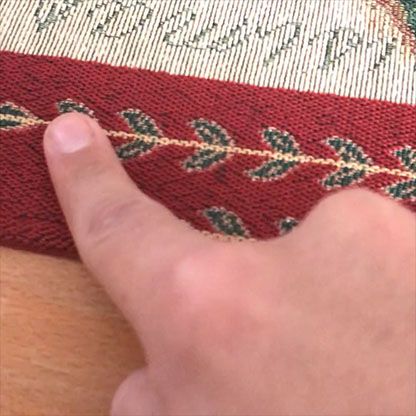fingertip: (32, 107, 119, 173)
